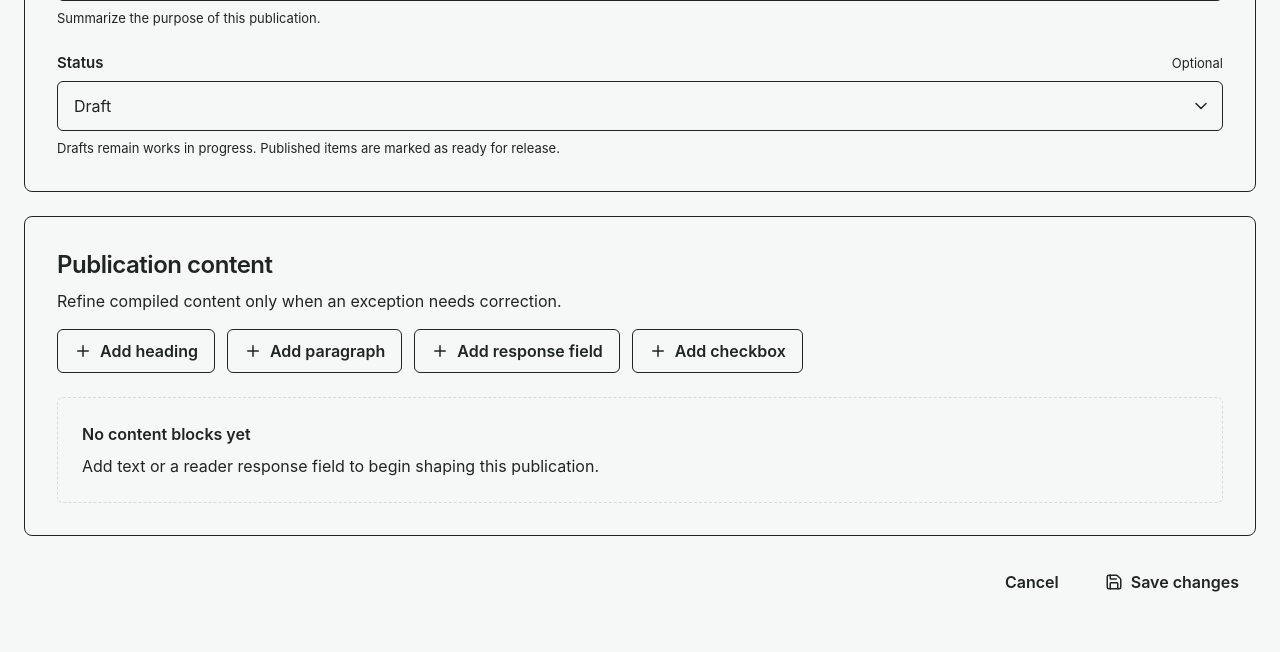
it: PublicationEditorPage › keeps editing when the confirmation is cancelled
The image size is (1280, 652).
(page scrolled)
Click the button "Add paragraph".
click(315, 350)  # box [227, 328, 402, 372]
(page scrolled)
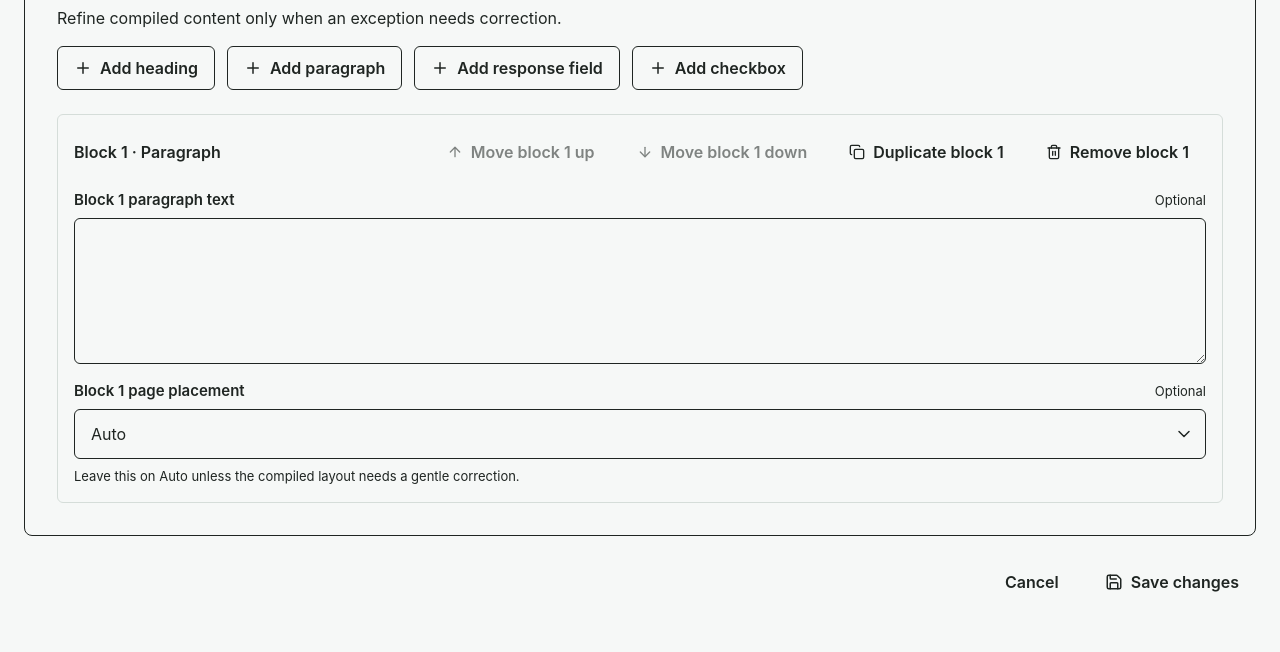
Click the button "Cancel".
click(1032, 582)  # box [988, 561, 1076, 603]
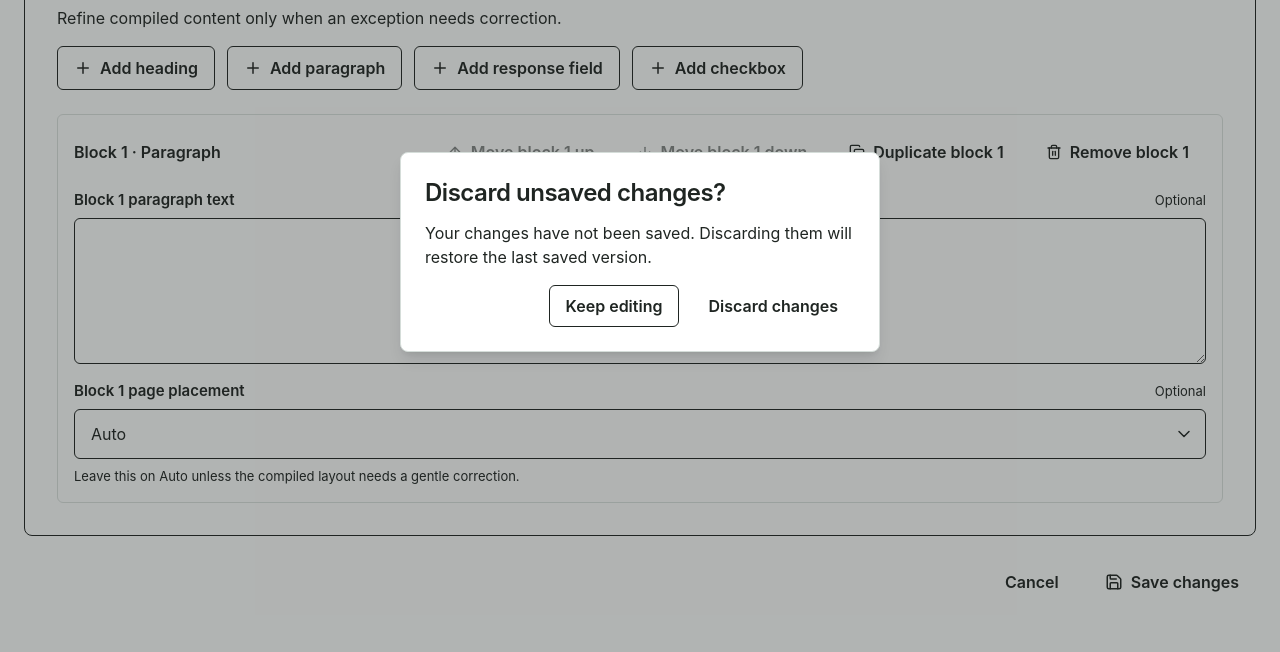
Click the button "Keep editing".
click(614, 306)  # box [549, 285, 679, 327]
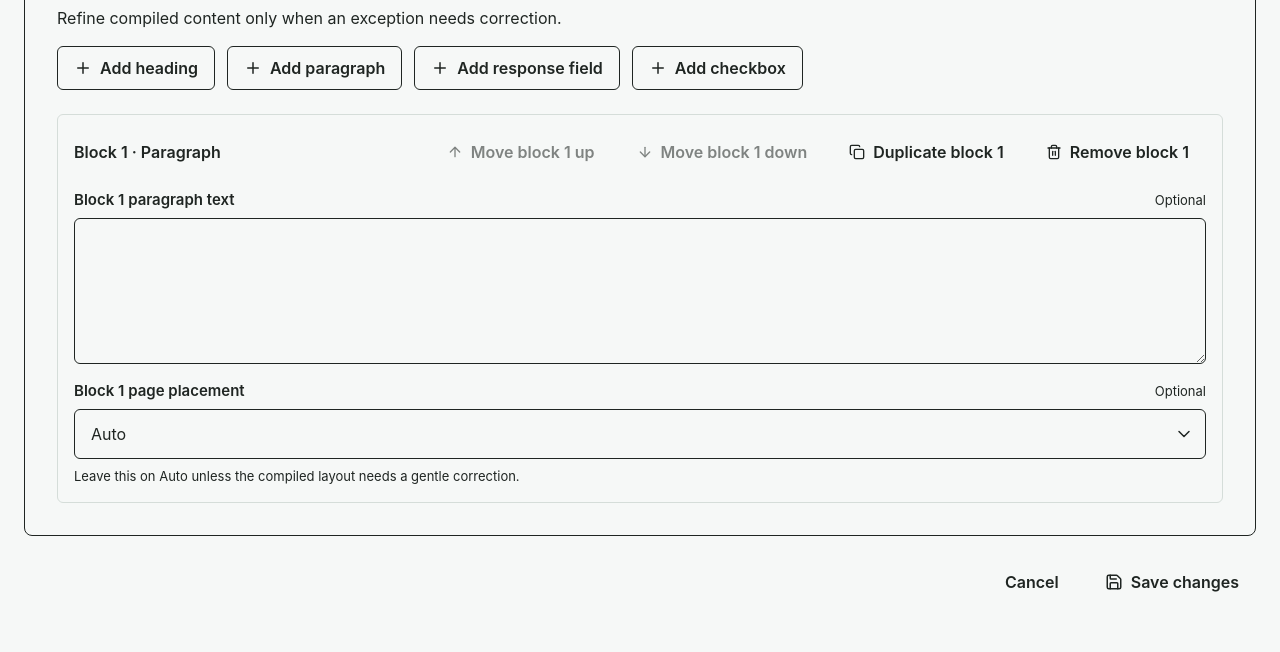
Check: the text box labelled "Block 1 paragraph text" is shown, box [74, 218, 1206, 364]
Check: the heading "Discard unsaved changes?" is gone
